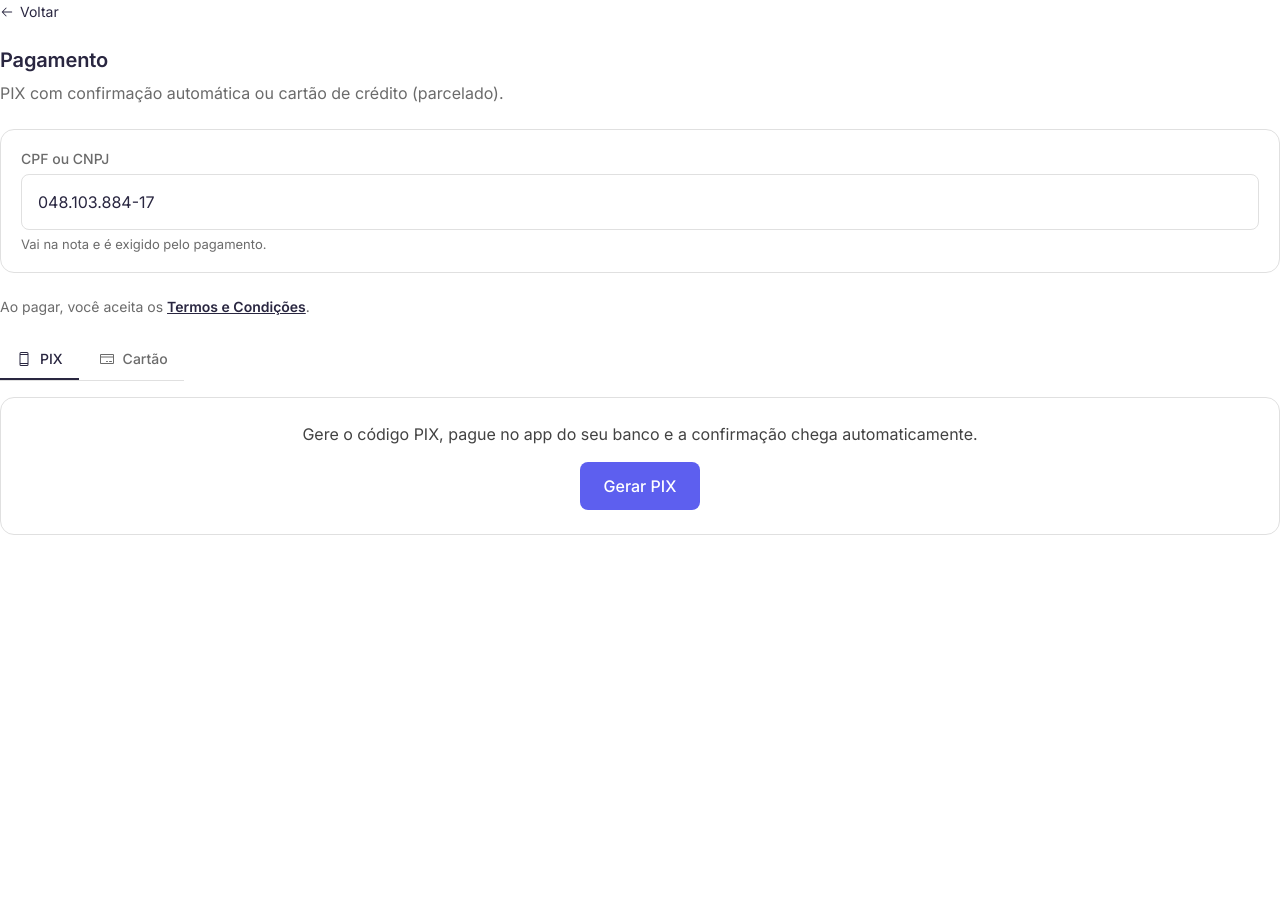
it: Step4Payment: parcelas com juros › começa em 1x, com o resumo dizendo que não há juros
The width and height of the screenshot is (1280, 900).
What coordinates should you click on to do the following:
click the tab "Cartão"
I would click on:
 (133, 360)
Its box is [83,340,184,380].
(page scrolled)
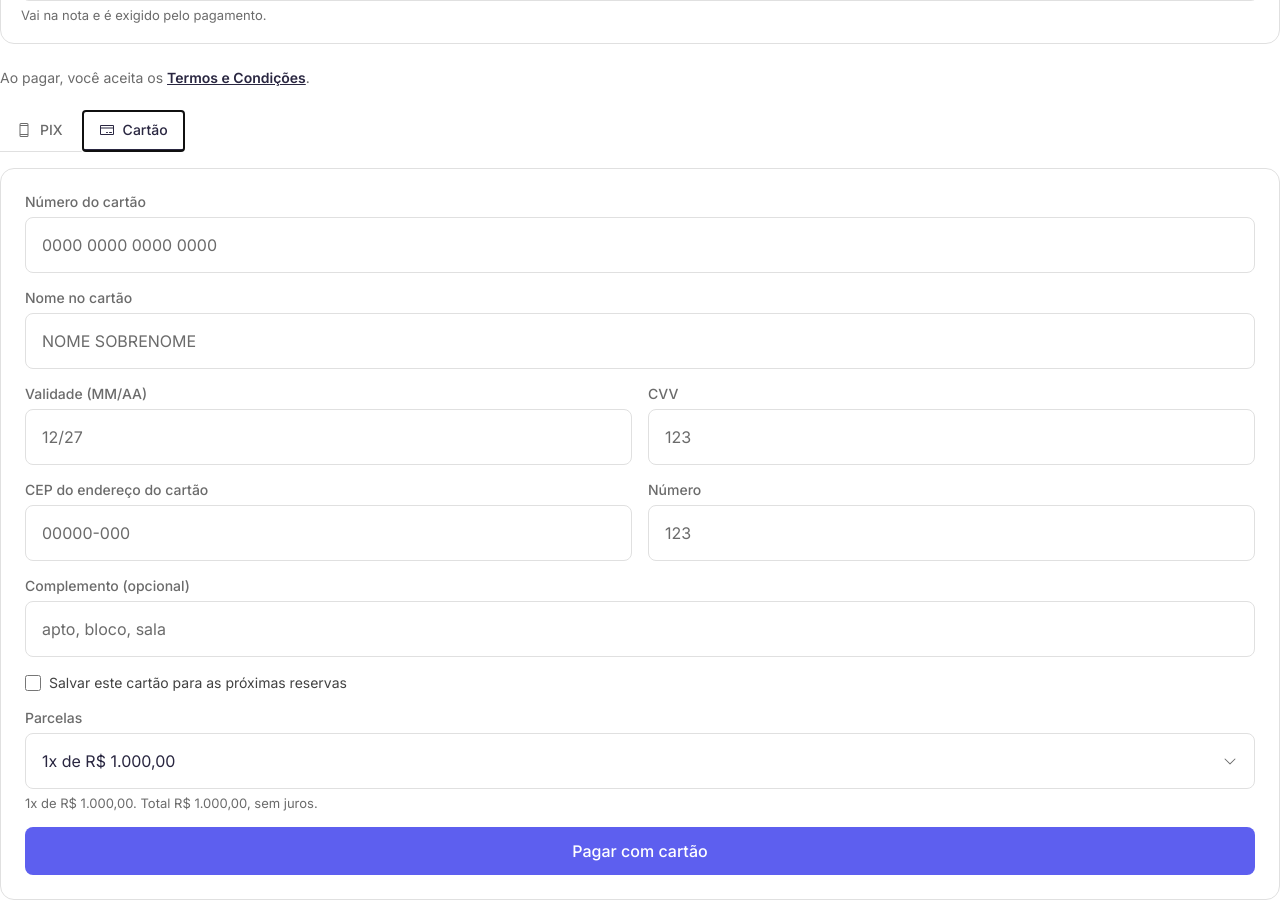
Expected: the dropdown named "Parcelas" is shown, [25,733,1255,789]
Expected: the text with test id "parcelas-resumo" reads "1x de R$ 1.000,00. Total R$ 1.000,00, sem juros.", [25,795,318,811]
